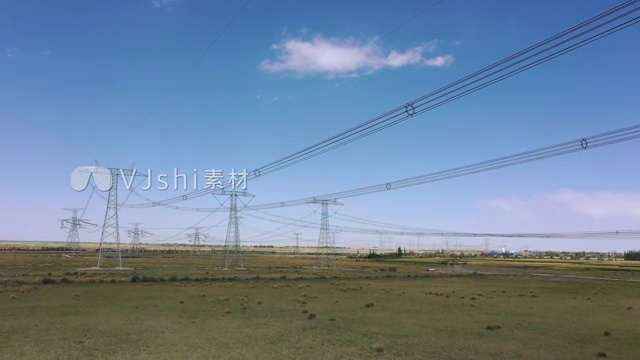tower_body: (76, 158, 154, 272), (209, 183, 263, 273), (304, 192, 352, 271)
tower_foot: (96, 241, 127, 271), (219, 249, 246, 271), (315, 245, 335, 269)
tower_head: (80, 161, 148, 183), (210, 187, 259, 201), (307, 195, 347, 209)
